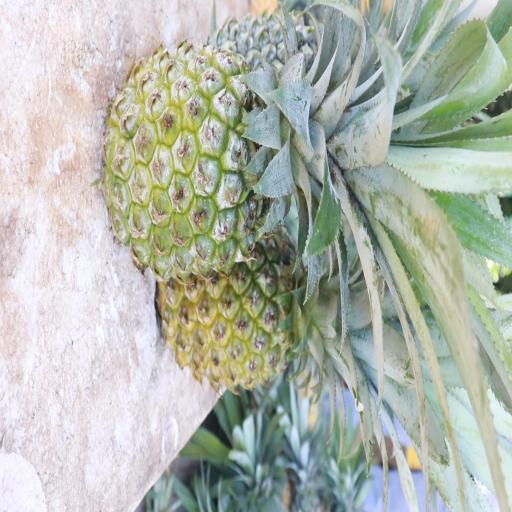------------------------------: (99, 30, 400, 280)
Pineapple - v8 v1: (153, 205, 389, 395)
